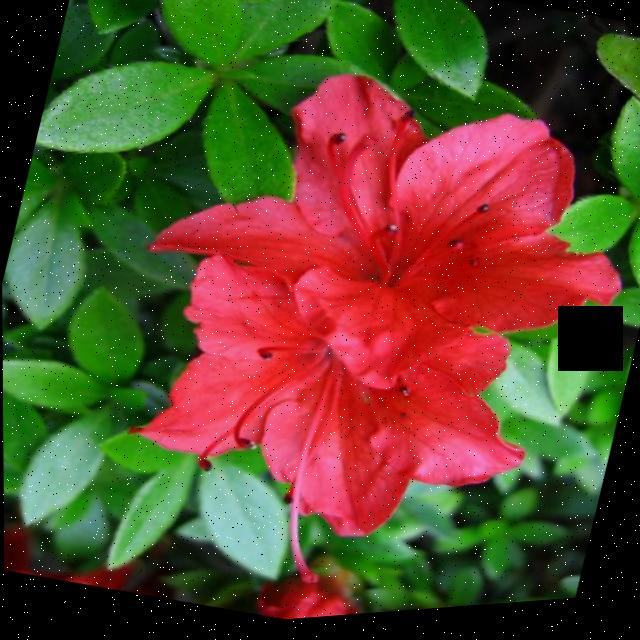azalea: (130, 49, 636, 585)
